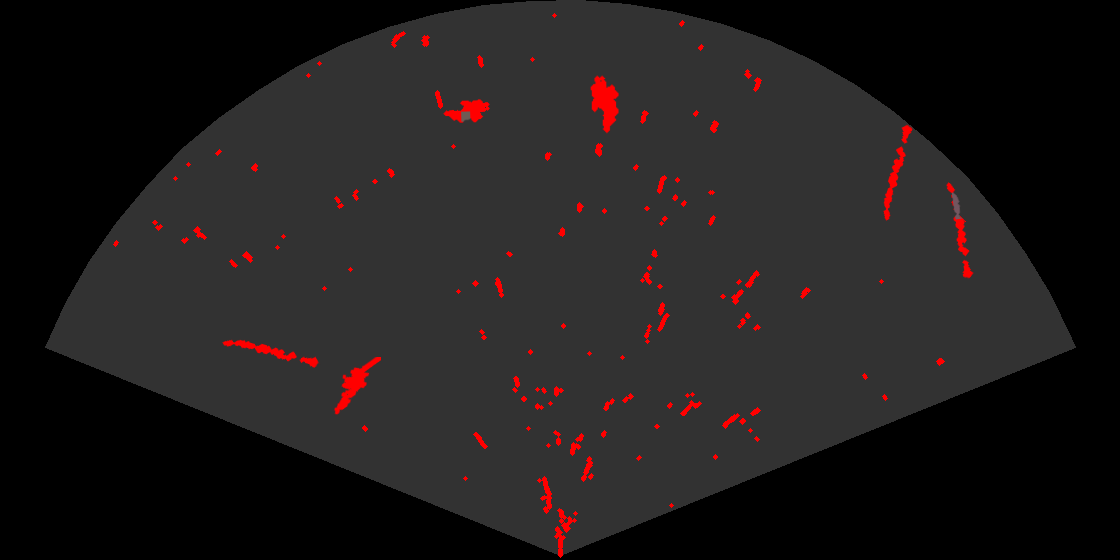AUV: (589, 74, 620, 135), (442, 98, 491, 124)
chain: (882, 122, 914, 222), (221, 338, 321, 369), (945, 181, 975, 280)
frogman: (332, 357, 381, 416)
